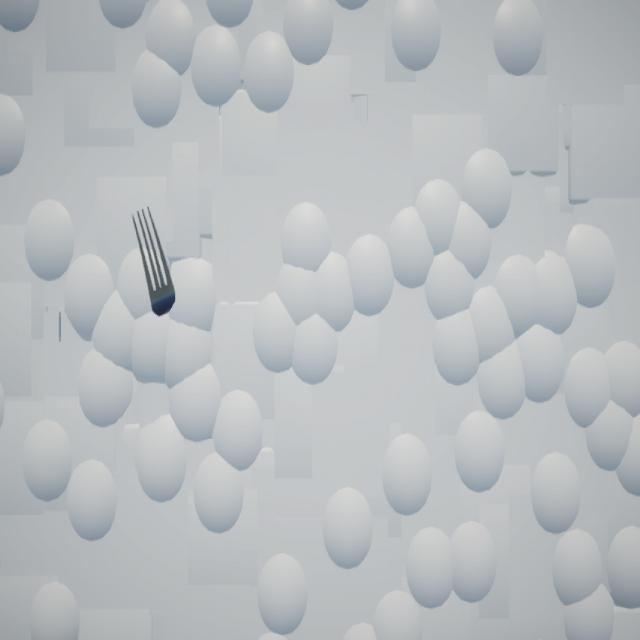top_folk: (132, 207, 177, 317)
